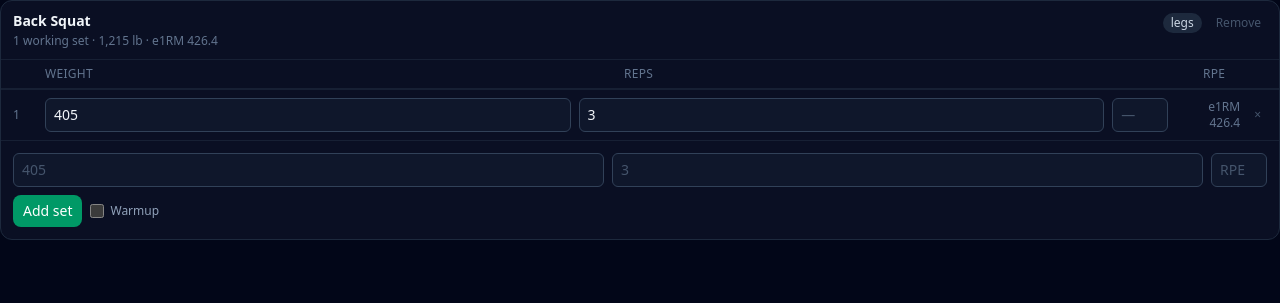
Test case: ExerciseBlock with RPE enabled › rejects an out-of-range RPE before logging
In the field named "New set RPE": (1239, 170) [1211, 153, 1267, 187], type "12"
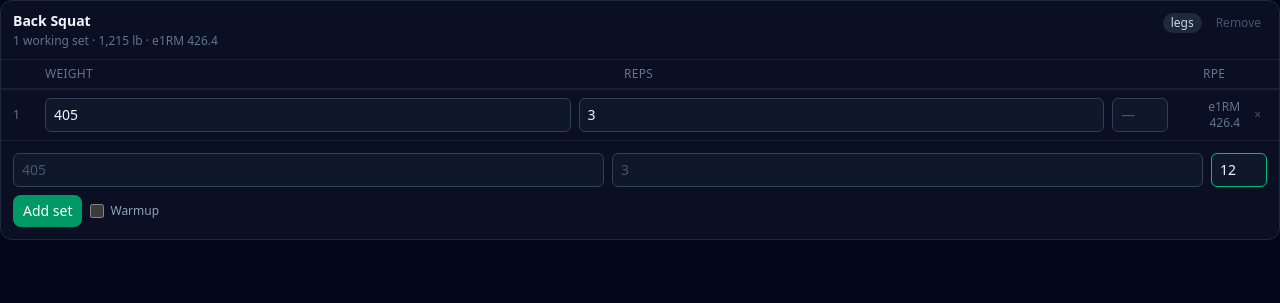
Click the button "Add set": (48, 211) [13, 195, 82, 227]
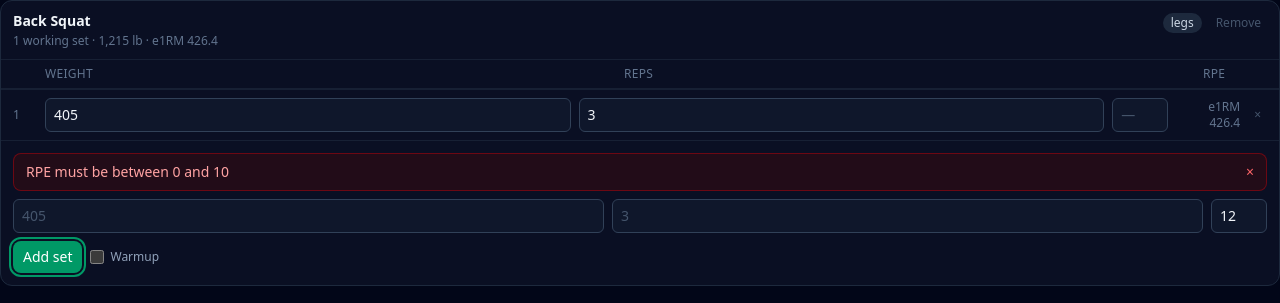
Expected: the message shows "RPE must be between 0 and 10", [26, 162, 229, 181]
